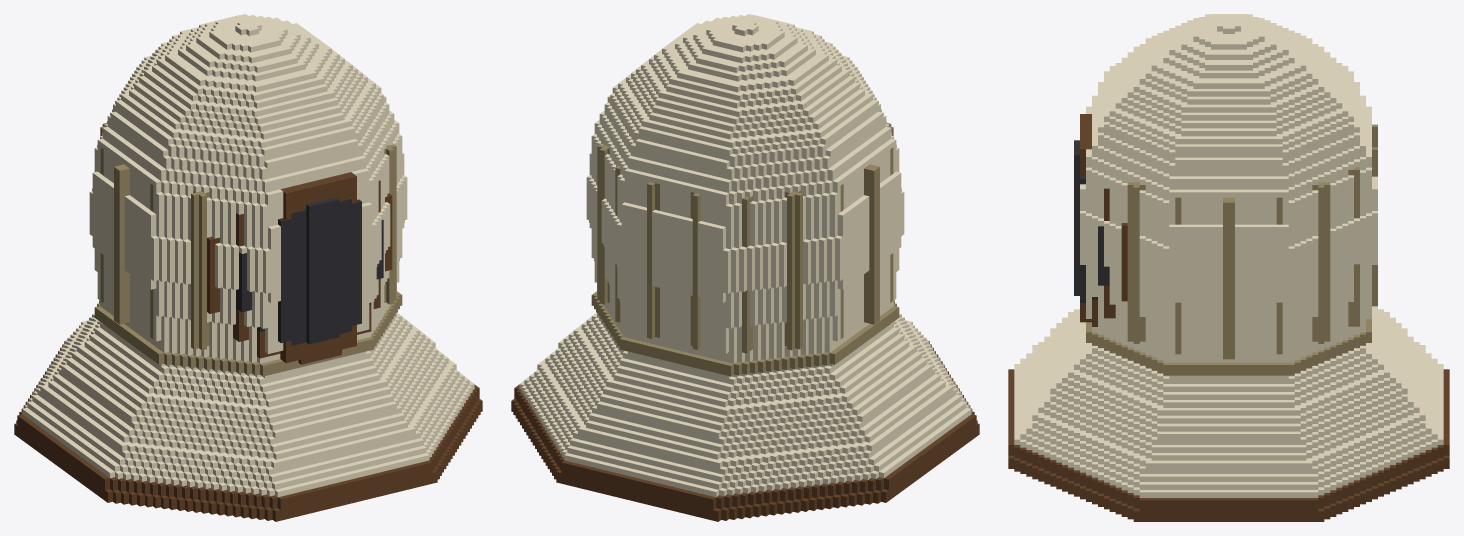
File: gambeson_hood.glb
3 views of the same model, side by side, from view 1: azimuth 30°, elevation 25°; view 2: azimuth 150°, elevation 25°; view 3: azimuth 270°, elevation 25° (orthographic).
Visible parts, largest first — view 1: gambeson_hood:compound; view 2: gambeson_hood:compound; view 3: gambeson_hood:compound.
Boxes of the visible parts, <box> form: gambeson_hood:compound: <box>14,14,482,521</box>; gambeson_hood:compound: <box>511,14,979,521</box>; gambeson_hood:compound: <box>1008,14,1449,521</box>.
Size of the model in its own units: 0.296 by 0.3 by 0.296.
